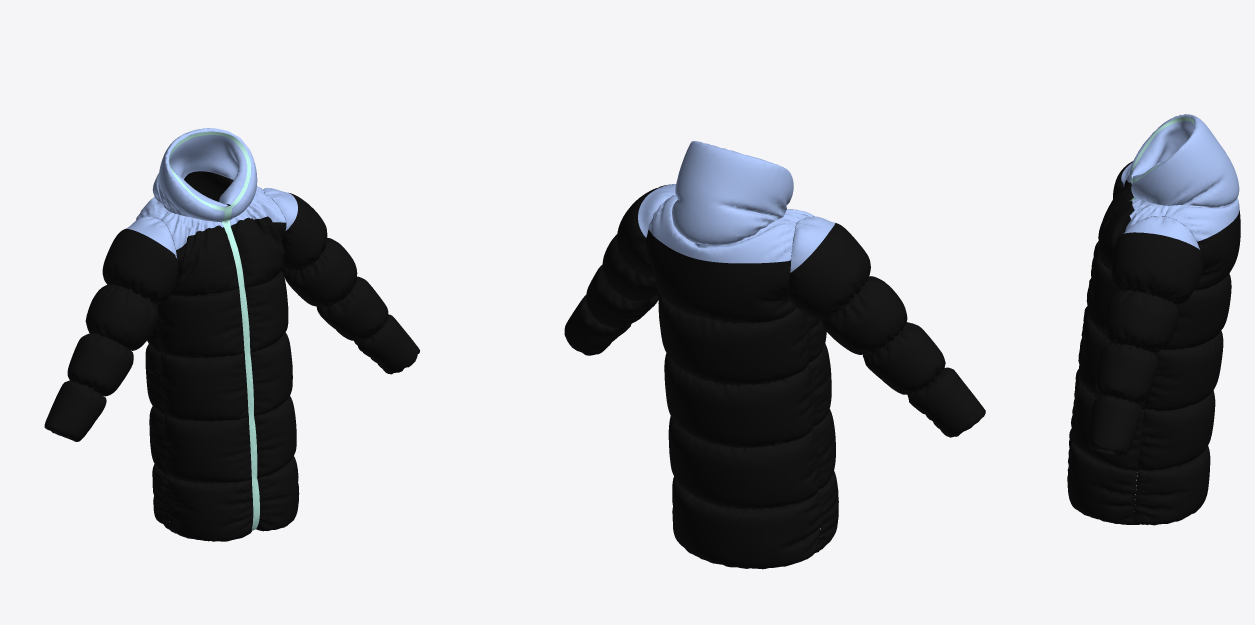
File: Puffer_draco.glb
The picture shows the model from 3 angles, left to right: view 1: azimuth 30°, elevation 25°; view 2: azimuth 150°, elevation 25°; view 3: azimuth 270°, elevation 25°; orthographic projection. The views are drawn at different scales.
Visible parts, largest first — view 1: Puffer; view 2: Puffer; view 3: Puffer.
Part boxes in pixels (x1=…): Puffer: x1=44, y1=128, x2=419, y2=541; Puffer: x1=564, y1=141, x2=985, y2=569; Puffer: x1=1067, y1=114, x2=1240, y2=525.
Size of the model in its own units: 1.33 by 1.34 by 0.4395.
